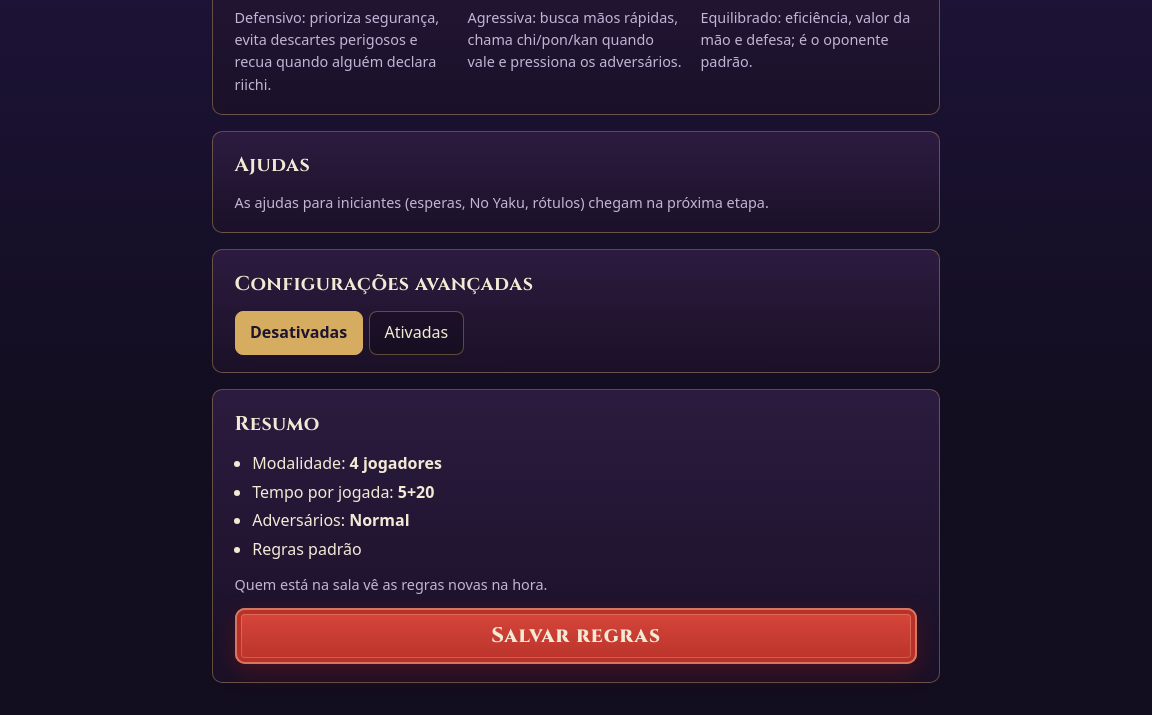
Test case: Editar regras da sala (fase 3) › sem lugar para trocar para 3 jogadores: avisa e não sai da tela
This screenshot has width=1152, height=715.
(page scrolled)
What coordinates should you click on to do the following:
click the button "Salvar regras"
I would click on:
 (576, 636)
Its box is [235,608,917,664].
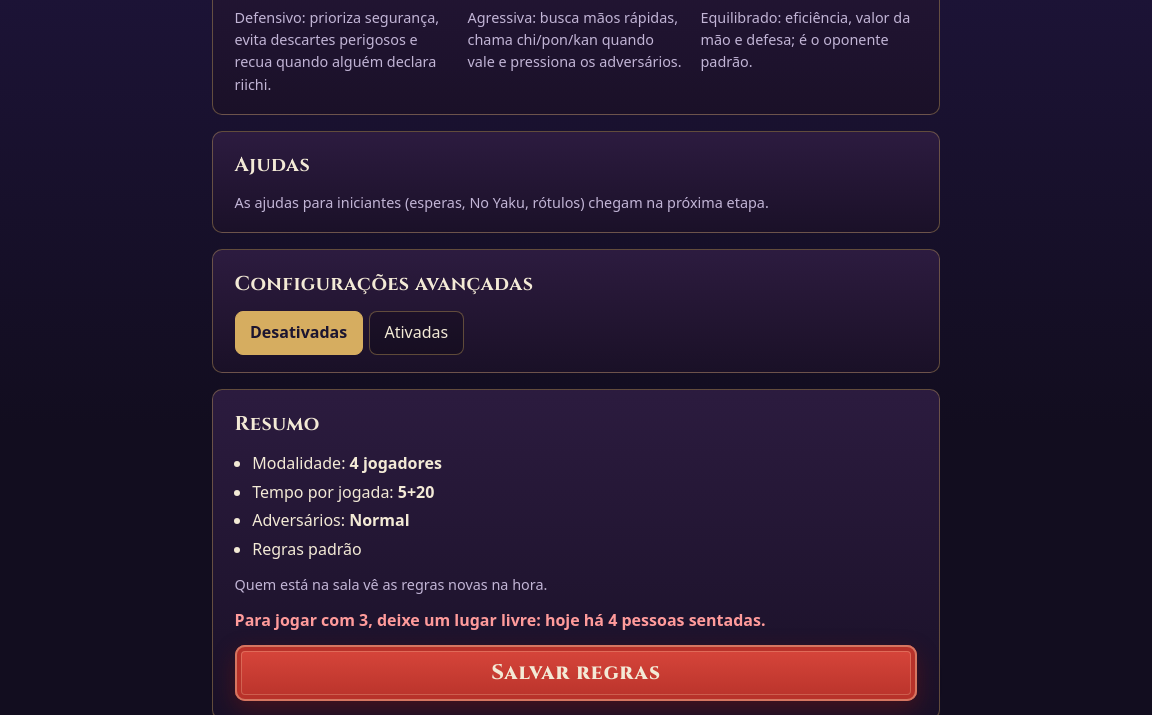
Expected: the text "Para jogar com 3, deixe um lugar livre: hoje há 4 pessoas sentadas." is shown, [235,609,766,631]
